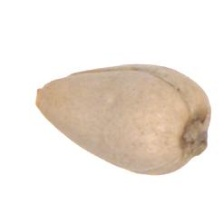L1: (182, 107, 212, 162), (35, 75, 63, 113)
L2: (36, 63, 212, 175)
